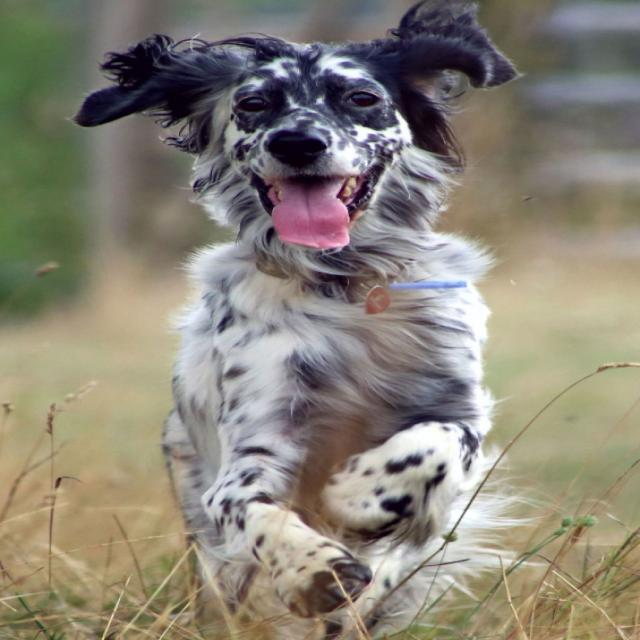dogs: (73, 0, 528, 640)
